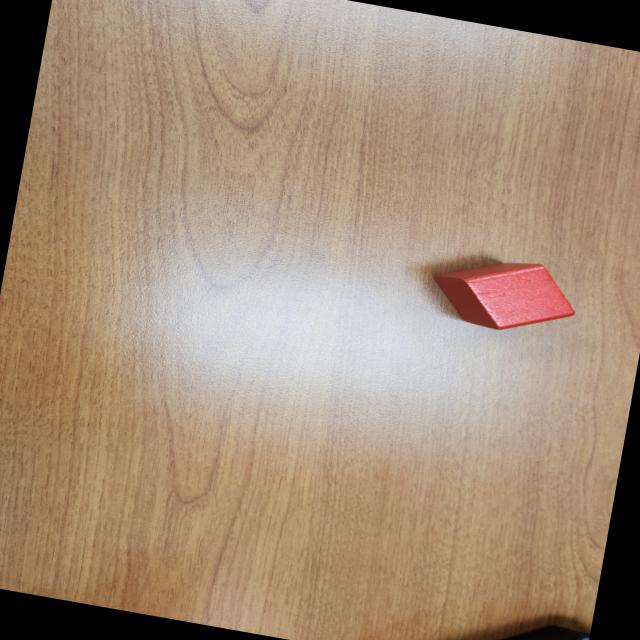red: (426, 245, 582, 342)
